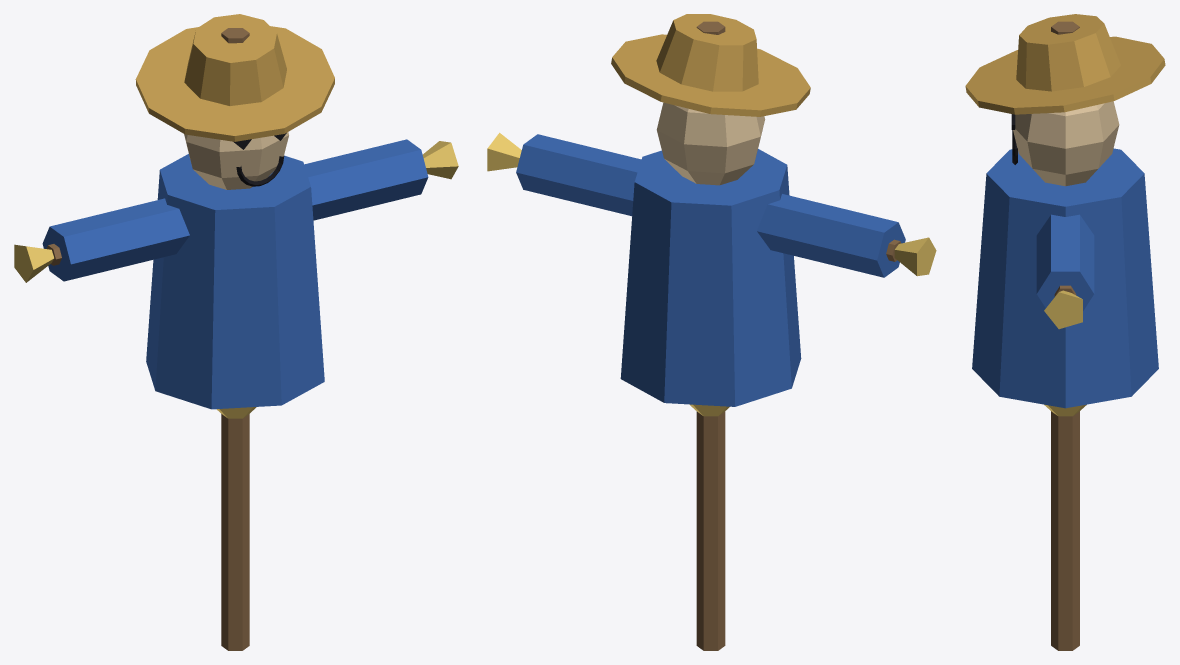
Rendered from scarecrow.glb.
The picture shows the model from 3 angles, left to right: view 1: azimuth 30°, elevation 25°; view 2: azimuth 150°, elevation 25°; view 3: azimuth 270°, elevation 25°; orthographic projection.
Parts seen in each view (by area): view 1: shirt_scarecrow_shirt (×3), hat_scarecrow_hat, pole_scarecrow_pole, head_scarecrow_sack, straw_scarecrow_straw; view 2: shirt_scarecrow_shirt (×3), hat_scarecrow_hat, pole_scarecrow_pole, head_scarecrow_sack, straw_scarecrow_straw; view 3: shirt_scarecrow_shirt (×2), hat_scarecrow_hat, pole_scarecrow_pole, head_scarecrow_sack, straw_scarecrow_straw.
Part boxes in pixels (x1,y1,x2,y2): shirt_scarecrow_shirt (×3): (42, 139, 428, 409); hat_scarecrow_hat: (135, 14, 334, 141); pole_scarecrow_pole: (46, 28, 249, 650); head_scarecrow_sack: (184, 132, 288, 189); straw_scarecrow_straw: (14, 141, 458, 418); shirt_scarecrow_shirt (×3): (516, 134, 905, 406); hat_scarecrow_hat: (611, 14, 810, 116); pole_scarecrow_pole: (696, 21, 901, 650); head_scarecrow_sack: (656, 102, 765, 185); straw_scarecrow_straw: (487, 132, 936, 416); shirt_scarecrow_shirt (×2): (972, 148, 1158, 408); hat_scarecrow_hat: (965, 14, 1165, 114); pole_scarecrow_pole: (1051, 21, 1079, 650); head_scarecrow_sack: (1013, 101, 1119, 186); straw_scarecrow_straw: (1044, 290, 1086, 416).
Size of the model in its own units: 1.38 by 1.91 by 0.5567.
